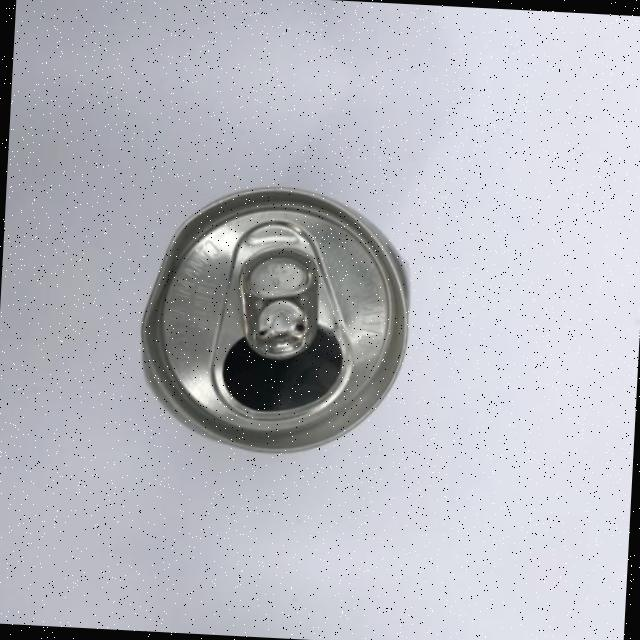Metal: (134, 173, 462, 464)
